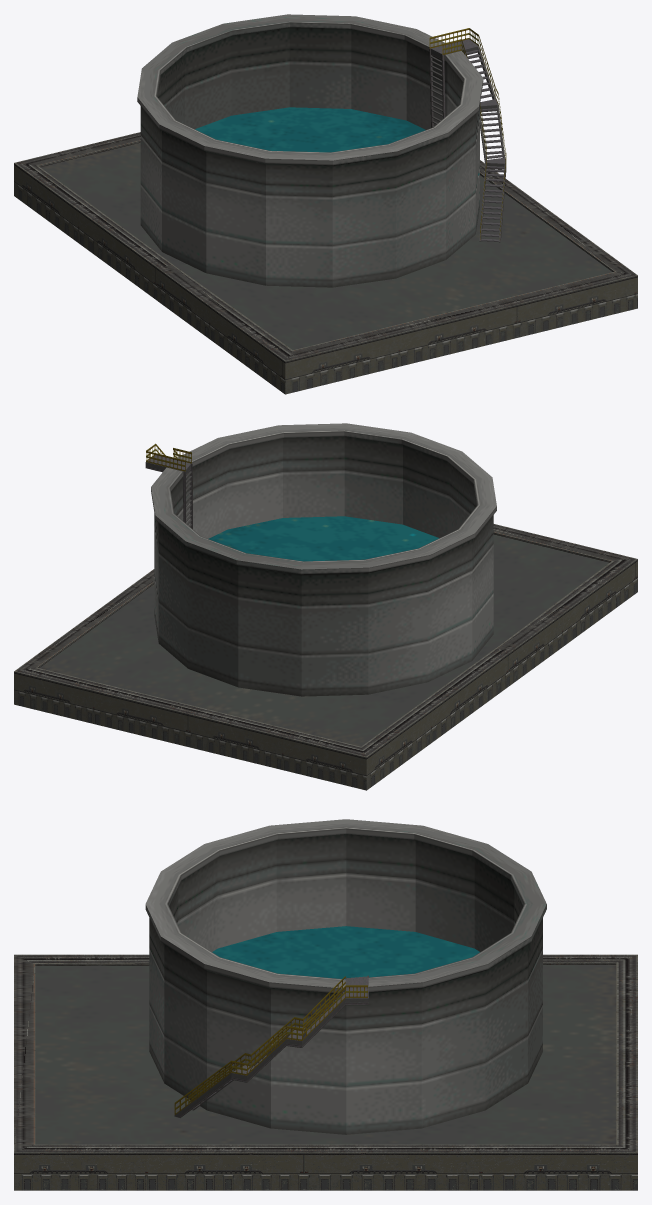
Rendered from pool_02.obj.
3 renders of one model, top to bottom at view 1: azimuth 30°, elevation 25°; view 2: azimuth 150°, elevation 25°; view 3: azimuth 270°, elevation 25°, orthographic. The views are drawn at different scales.
Parts seen in each view (by area): view 1: Object202; view 2: Object202; view 3: Object202.
Part boxes in pixels (<box>): Object202: <box>14,14,637,394</box>; Object202: <box>14,423,637,790</box>; Object202: <box>14,819,637,1190</box>.
Size of the model in its own units: 60.26 by 28.02 by 80.25.
